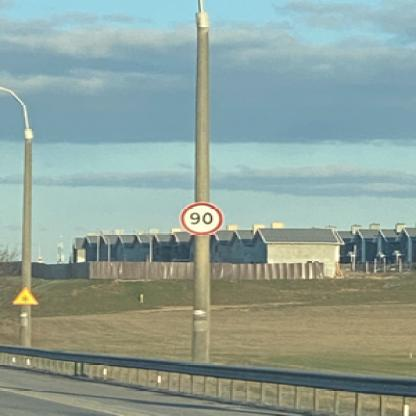Speed Limit 90: (182, 202, 223, 235)
